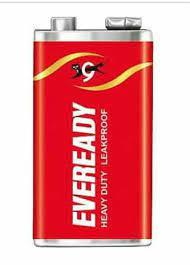9V Battery: (33, 17, 155, 250)
